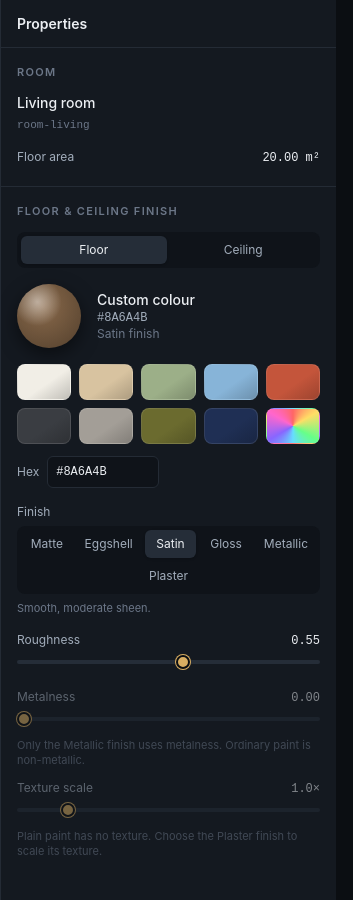
PropertiesPanel › edits the floor and ceiling finish of a selected room
The width and height of the screenshot is (353, 900).
Expected: the text with test id "room-id" reads "room-living", [17, 118, 90, 130]
Expected: the text with test id "room-area" reads "20.00 m²", [262, 151, 320, 165]
Click the button named "Sage Green" at (168, 382), box [141, 364, 196, 400]
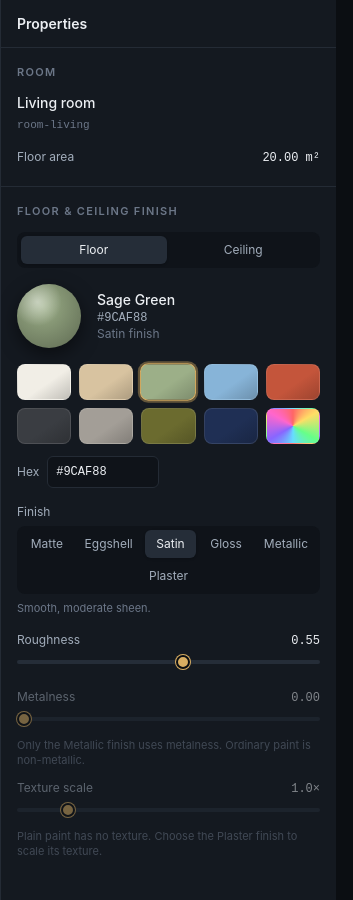
Expected: the text "#9CAF88" is shown, [97, 310, 147, 324]
Click the radio button labelled "Ceiling" at (243, 250), box [170, 236, 316, 264]
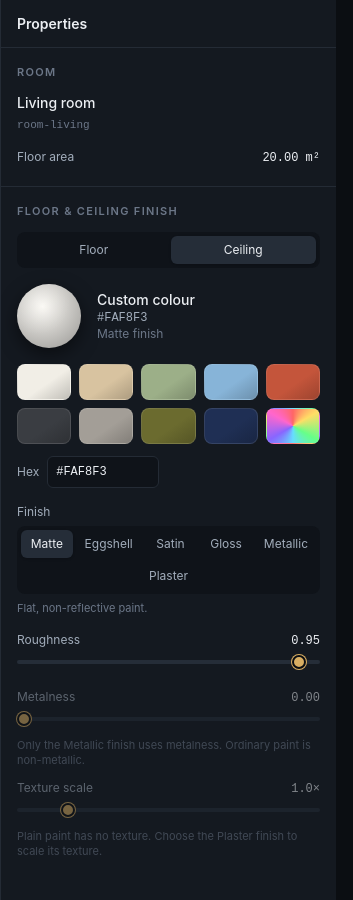
Click the button named "Charcoal" at (44, 426), box [17, 408, 71, 444]
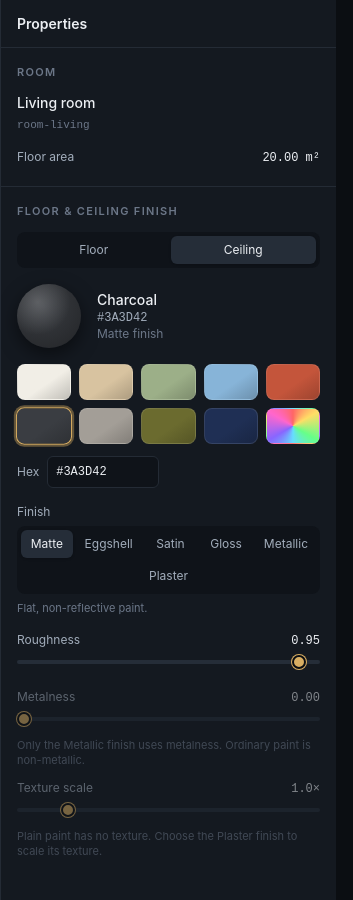
Expected: the text "#3A3D42" is shown, [97, 310, 147, 324]
